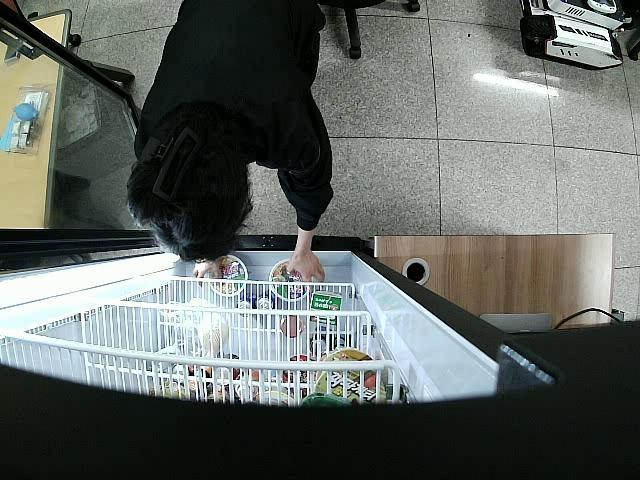09_yukGaeJang: (207, 253, 248, 299), (269, 258, 312, 301)
